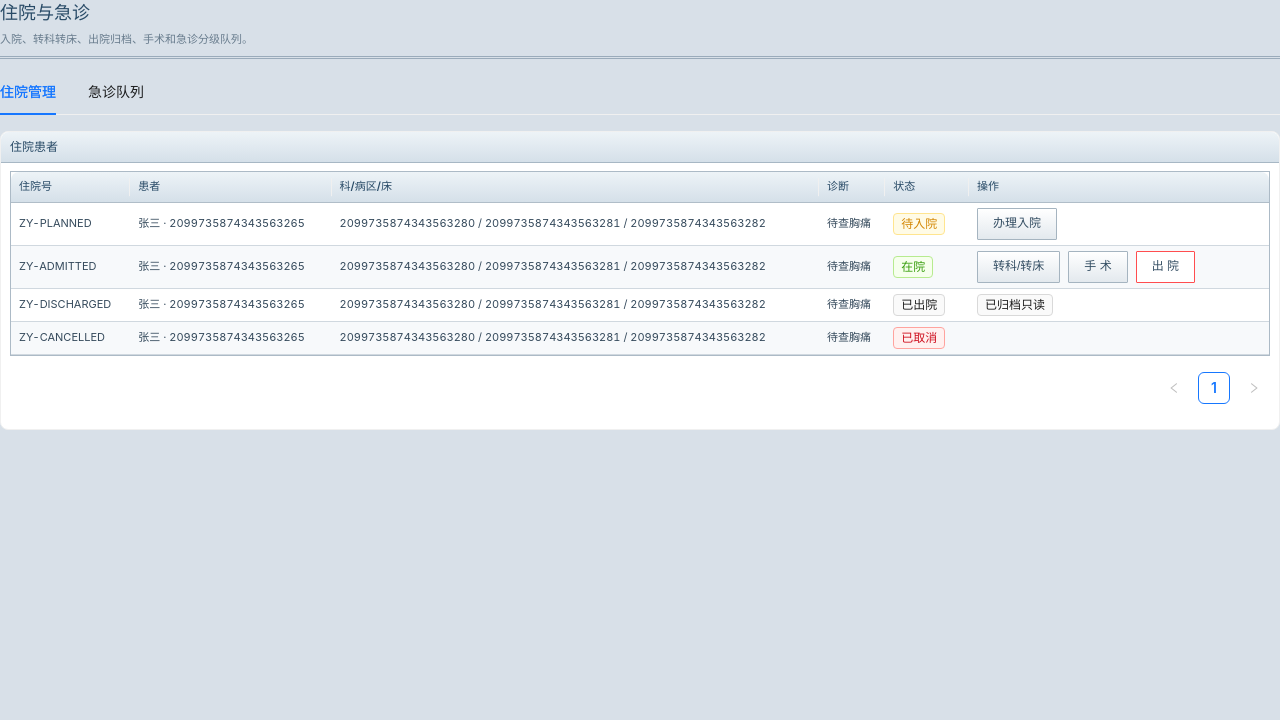
Test: InpatientEmergencyPage inpatient workflows › keeps the discharge summary when the backend rejects archiving
Expected: the text "ZY-PLANNED" is shown, [11,203,130,246]
Click the button "出 院" at point(1165, 267), box [1136,251,1195,283]
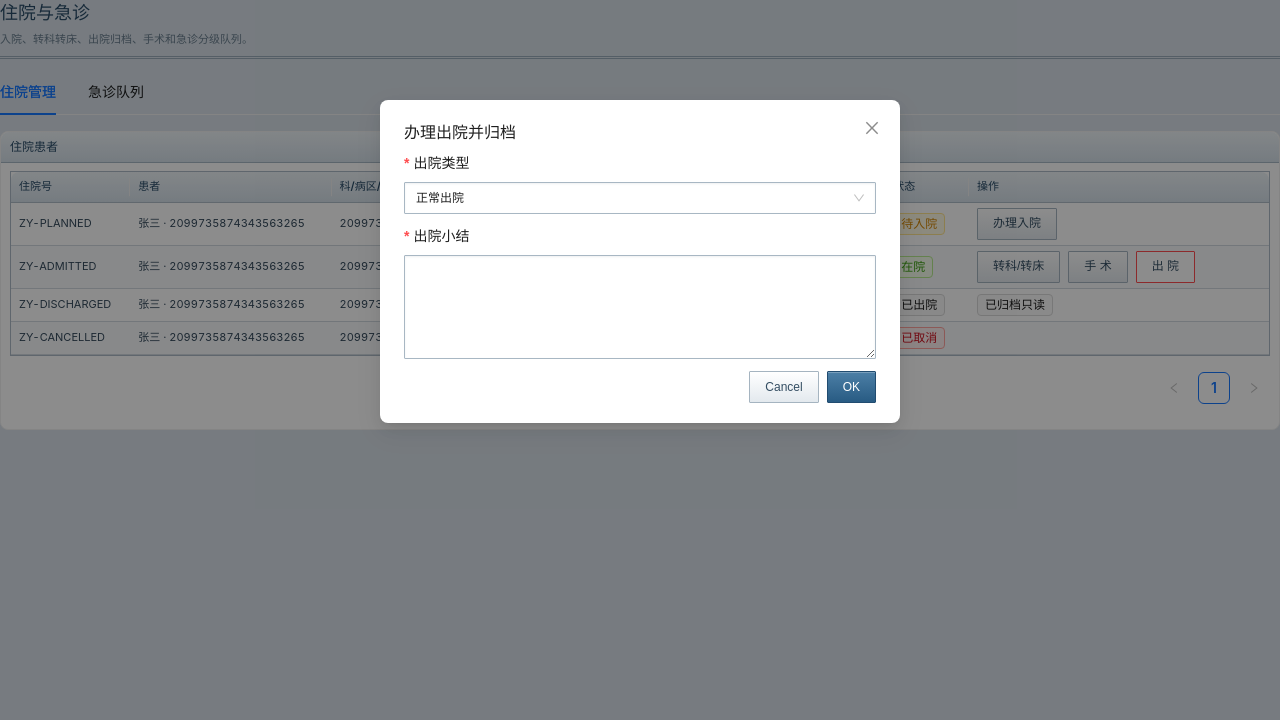
Expected: the dialog "办理出院并归档" is shown, [380,100,900,447]
Type "出院状态待核实" into the text box labelled "出院小结" at point(640, 307), box [404,255,876,359]
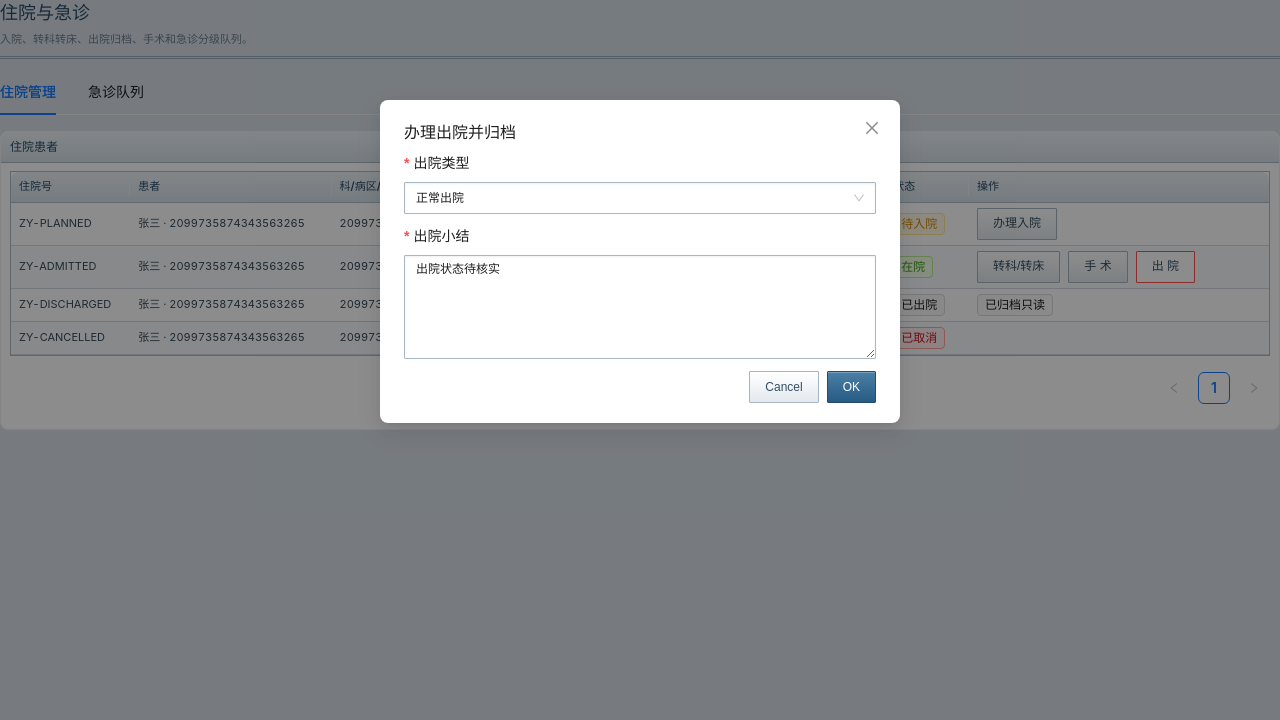
Click the button "OK" at point(851, 387), box [827,371,876,403]
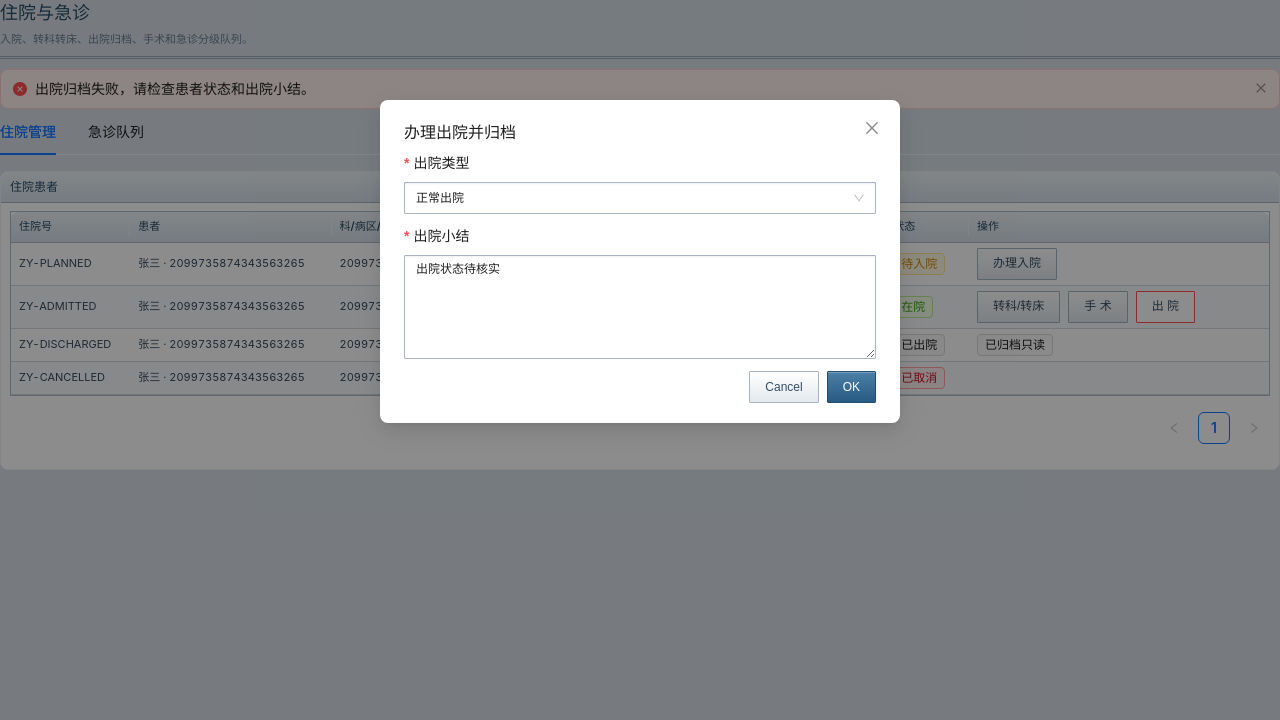
Expected: the text "在院" is shown, [893,296,933,318]
Expected: the dialog "办理出院并归档" is shown, [380,100,900,447]
Expected: the text "出院归档失败，请检查患者状态和出院小结。" is shown, [35,80,315,96]
